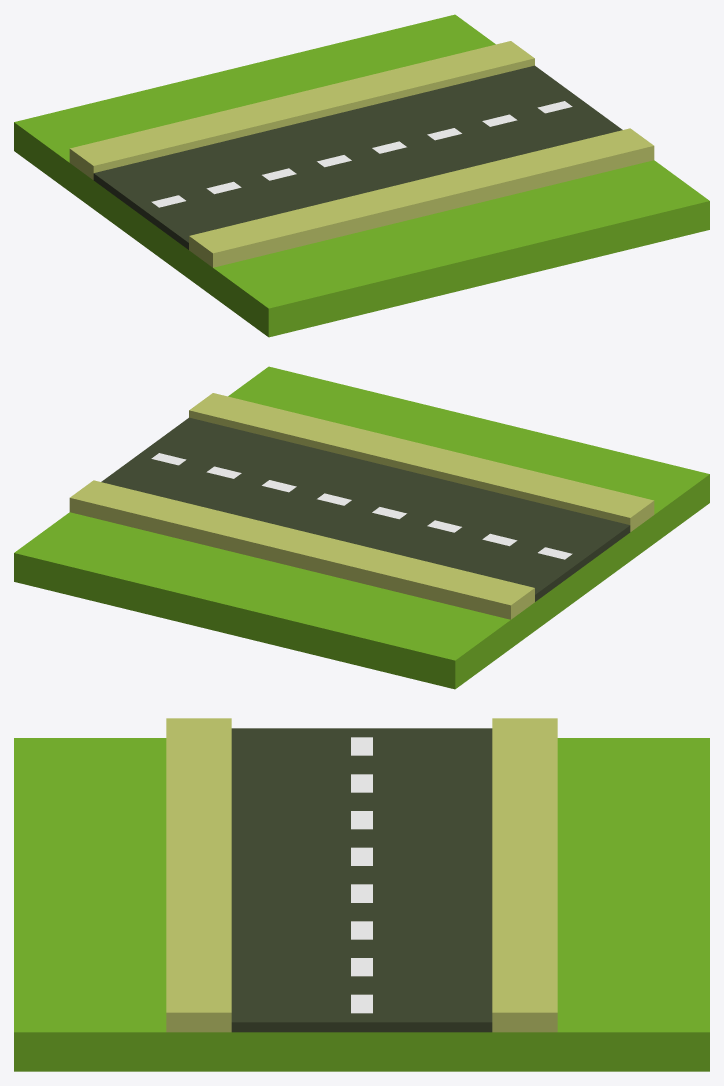
The model's file is Straight_Horizontal.obj.
3 renders of one model, top to bottom at view 1: azimuth 30°, elevation 25°; view 2: azimuth 150°, elevation 25°; view 3: azimuth 270°, elevation 25°, orthographic. The views are drawn at different scales.
Size of the model in its own units: 6.4 by 0.6 by 6.4.
1 material, 1 textured.
